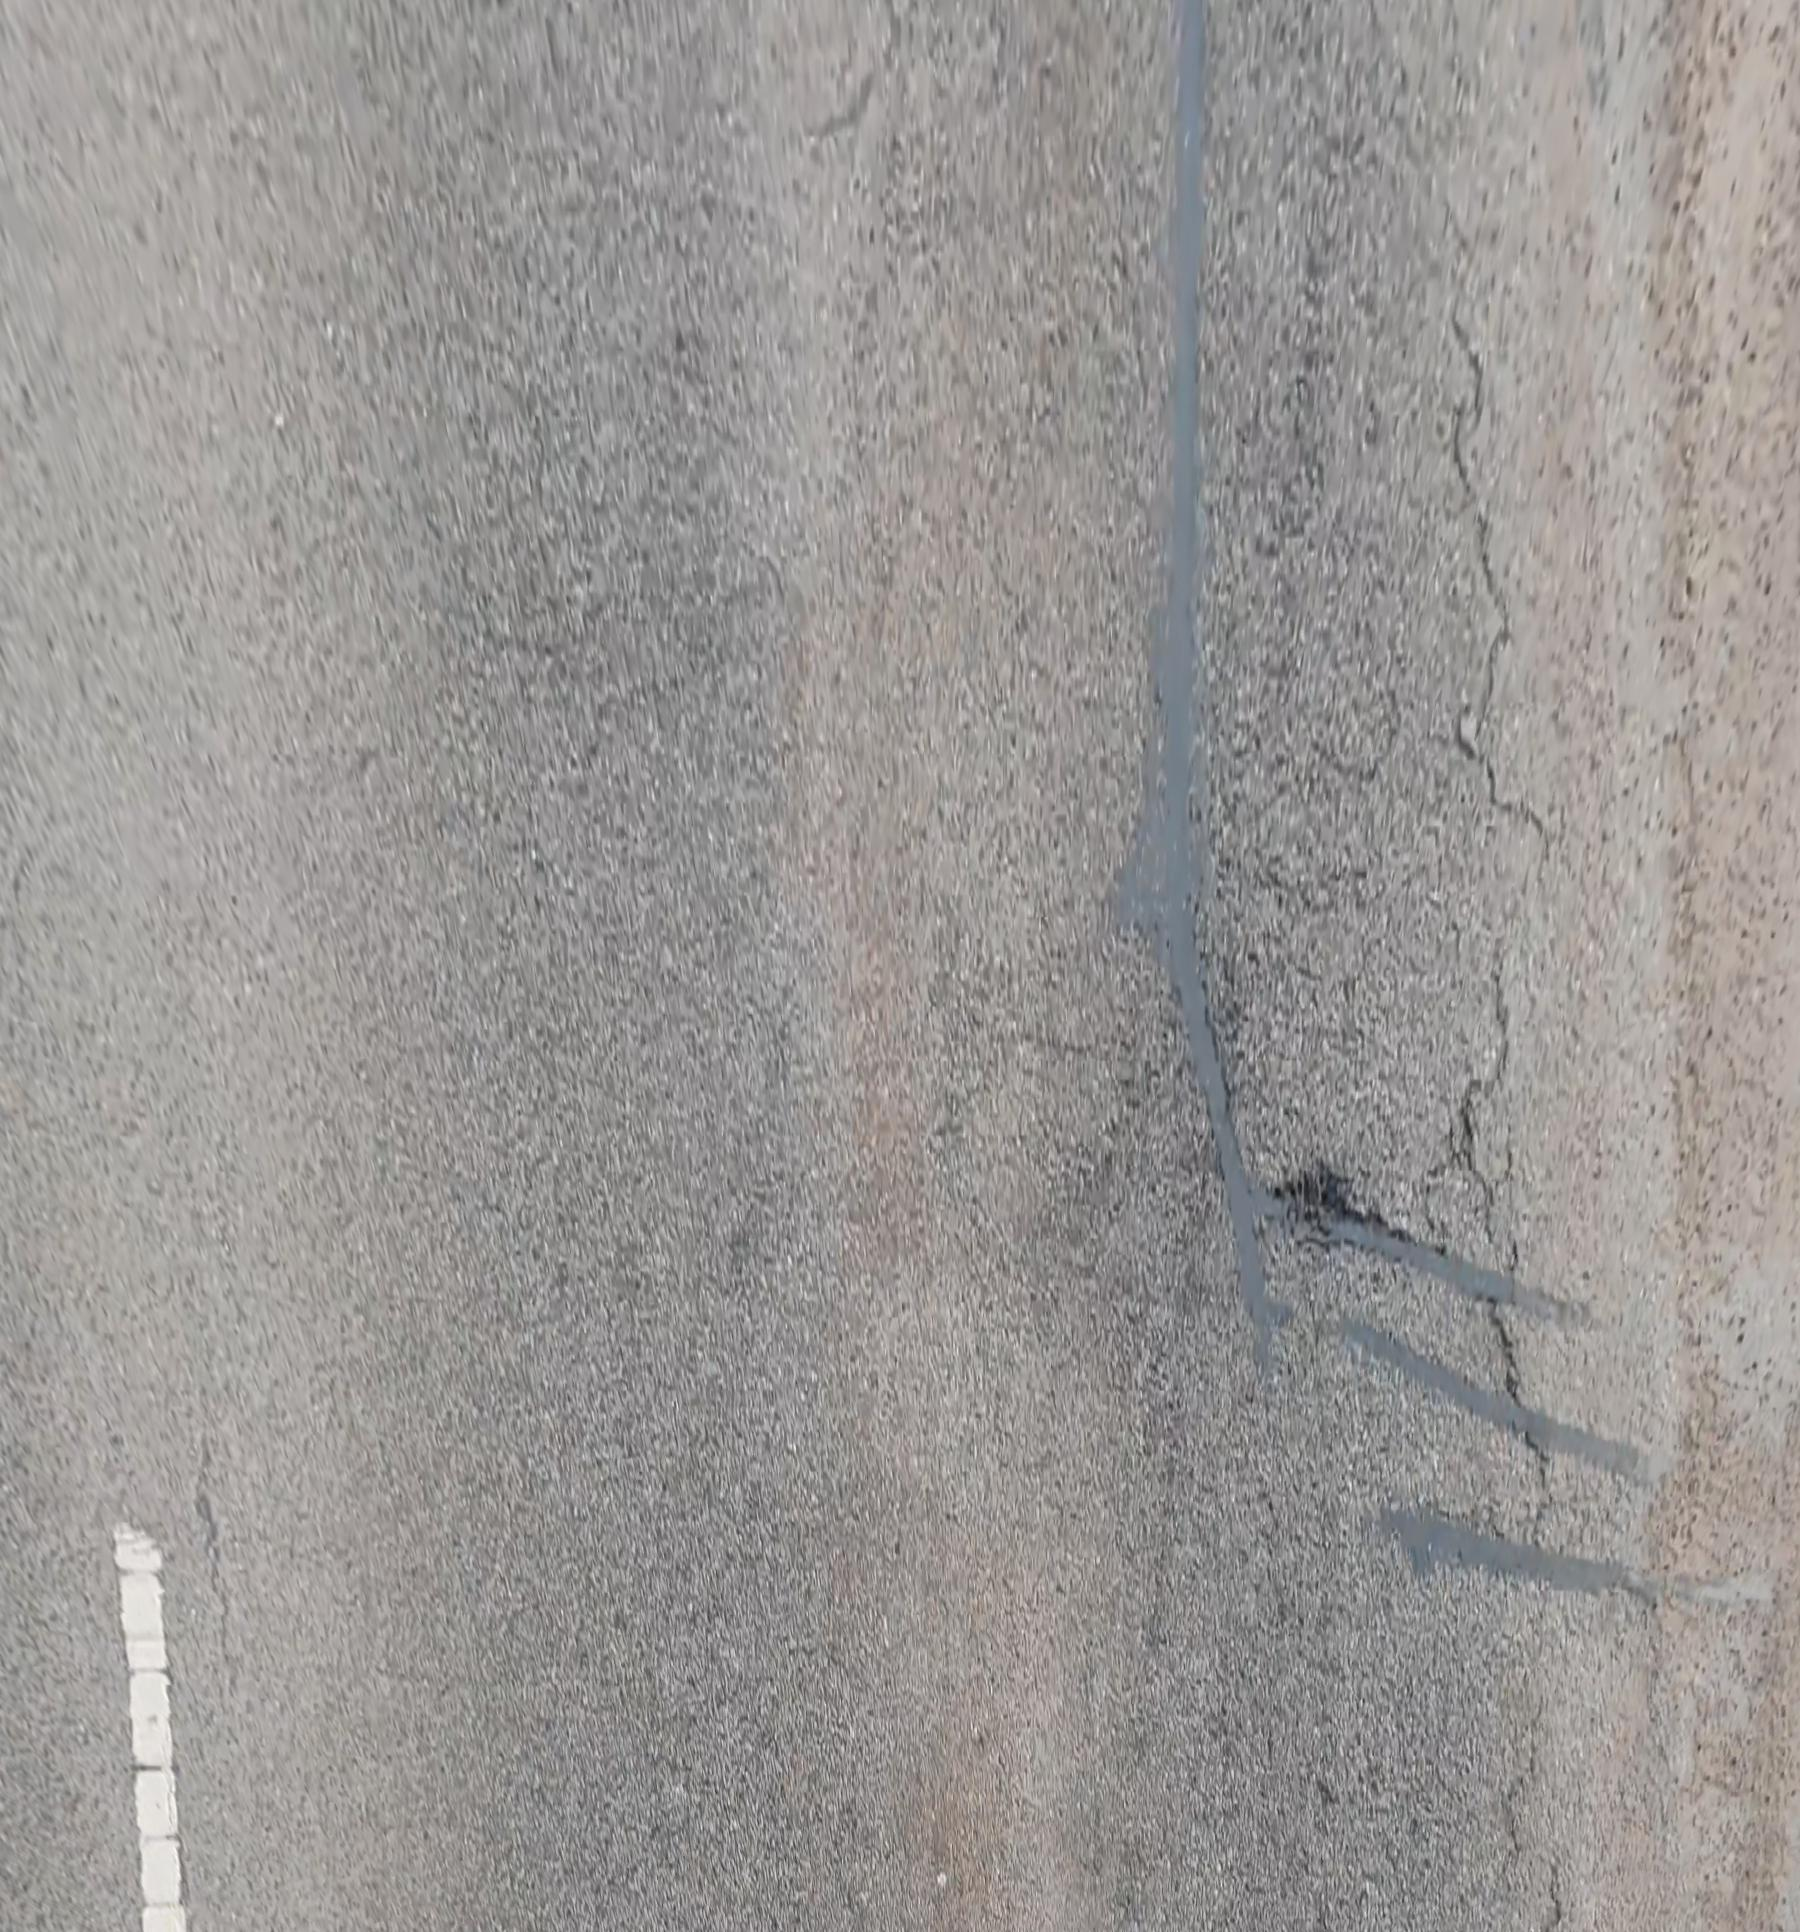pothole: (1255, 1164, 1391, 1252)
